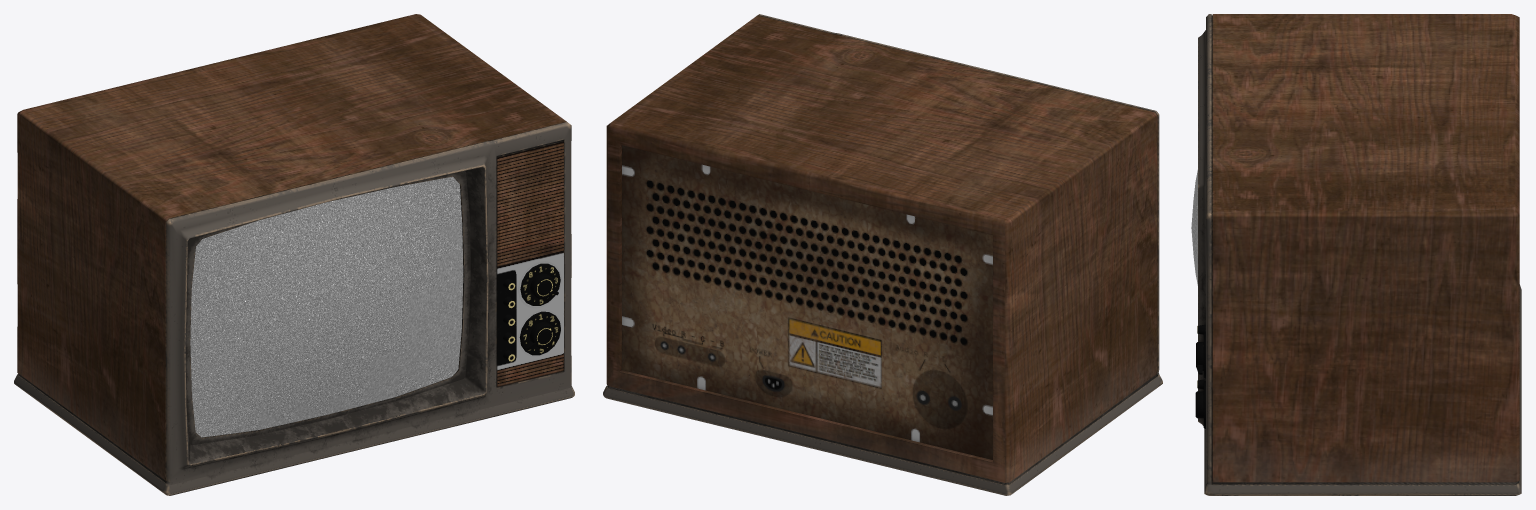
The model's file is old_television.glb.
3 renders of one model, left to right at view 1: azimuth 30°, elevation 25°; view 2: azimuth 150°, elevation 25°; view 3: azimuth 270°, elevation 25°, orthographic. The views are drawn at different scales.
Parts seen in each view (by area): view 1: TV_low, Screen_low; view 2: TV_low; view 3: TV_low, Screen_low.
Part boxes in pixels (x1,y1,x2,y2): TV_low: (14,14,574,495); Screen_low: (190,176,463,437); TV_low: (603,14,1162,495); TV_low: (1195,14,1521,495); Screen_low: (1191,170,1197,285).
Size of the model in its own units: 0.9686 by 0.6428 by 0.6615.
Materials: 2 (2 with a texture image).
